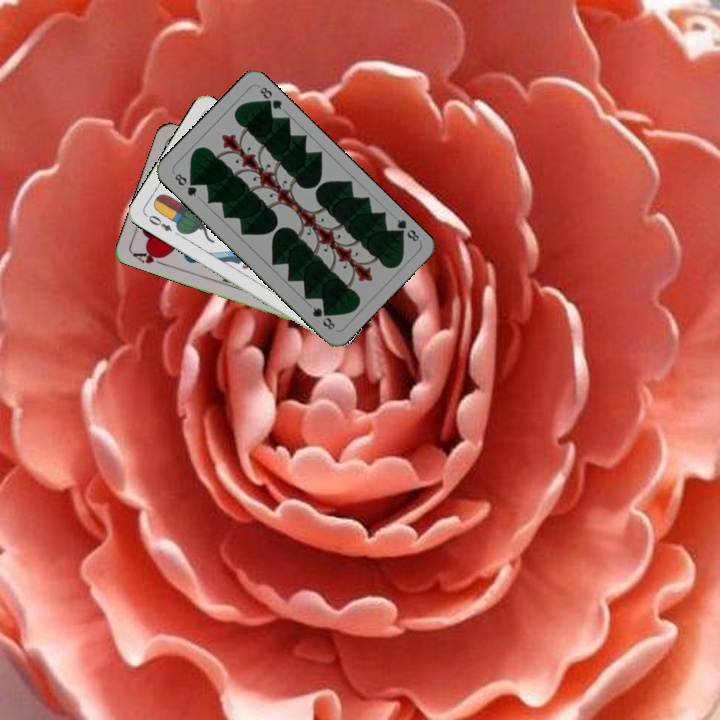EO: (141, 211, 175, 234)
G8: (390, 215, 422, 244), (170, 169, 200, 199)
HA: (129, 246, 168, 268)
